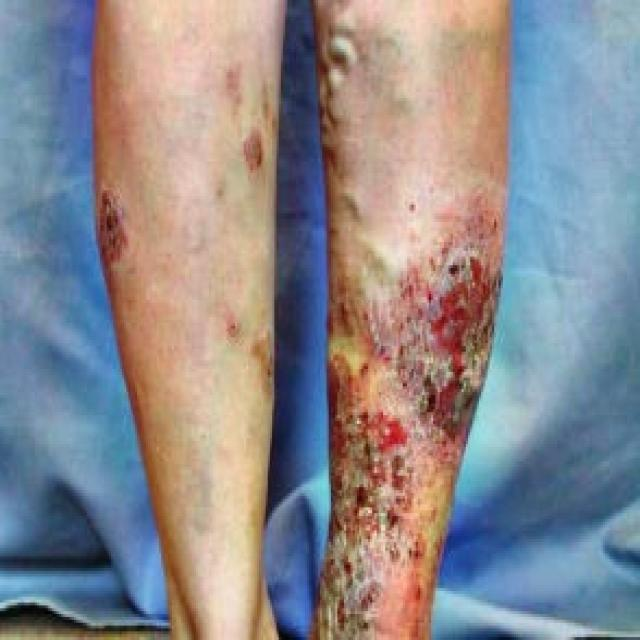Atopic-Dermatitis: (313, 4, 510, 637), (94, 2, 285, 637)
